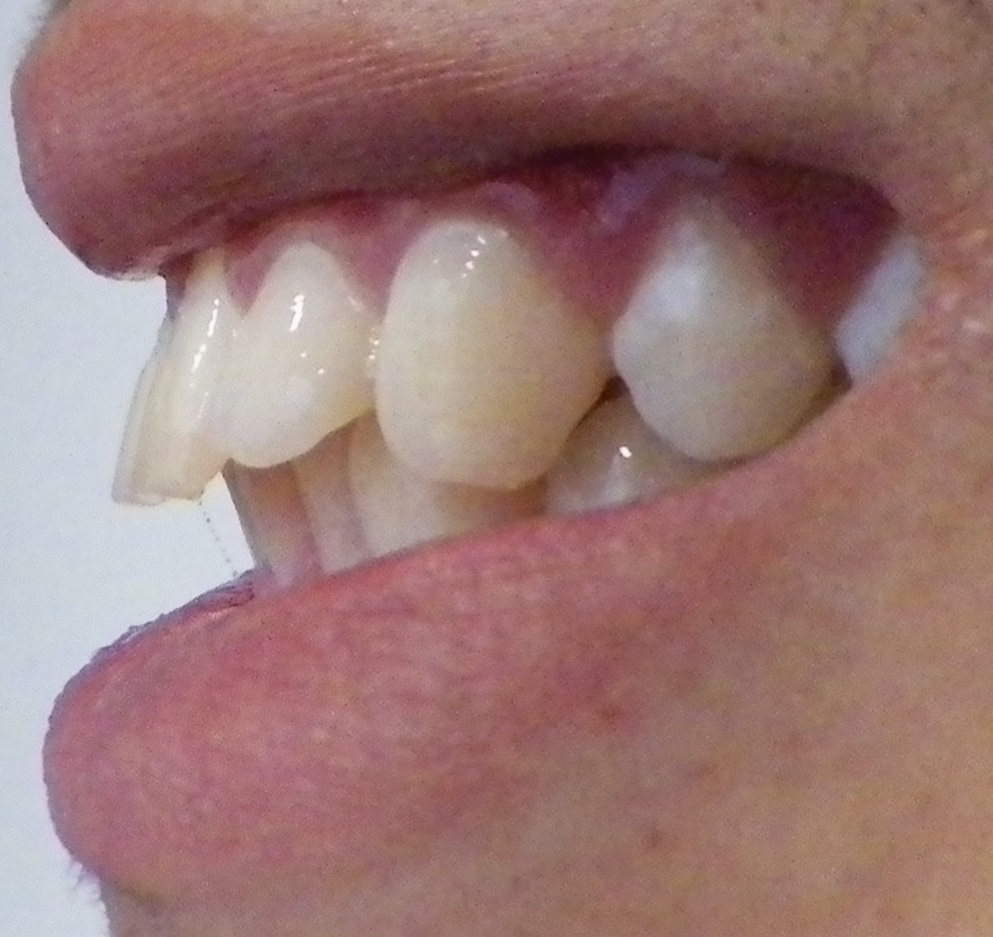boca: (138, 202, 896, 608)
